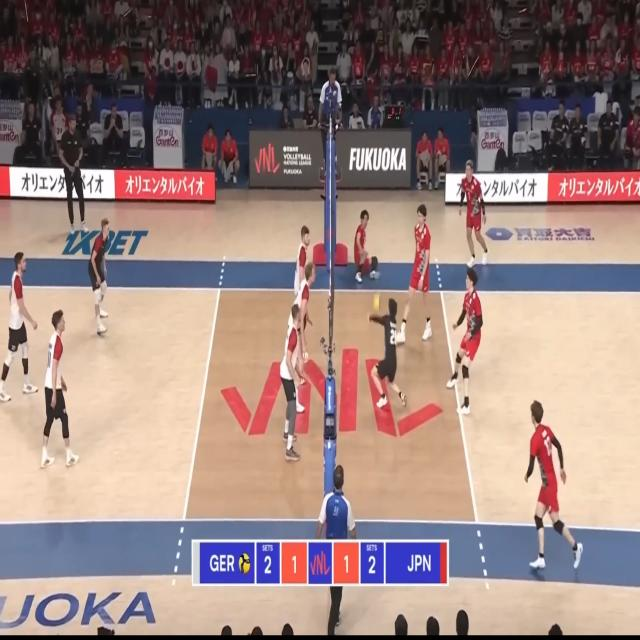ball: (373, 293, 381, 311)
